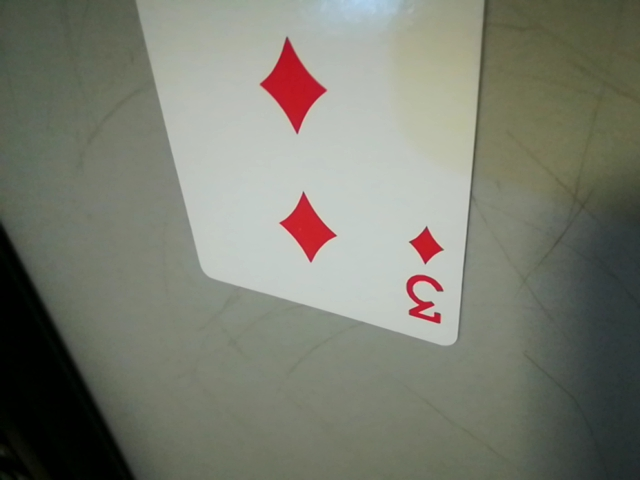fk 3: (391, 220, 459, 335)
